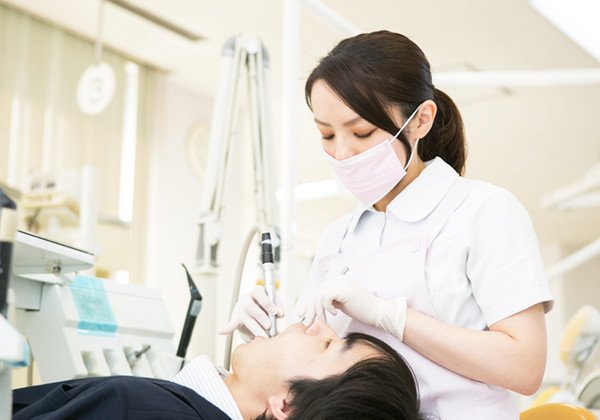mask: (321, 139, 411, 205)
